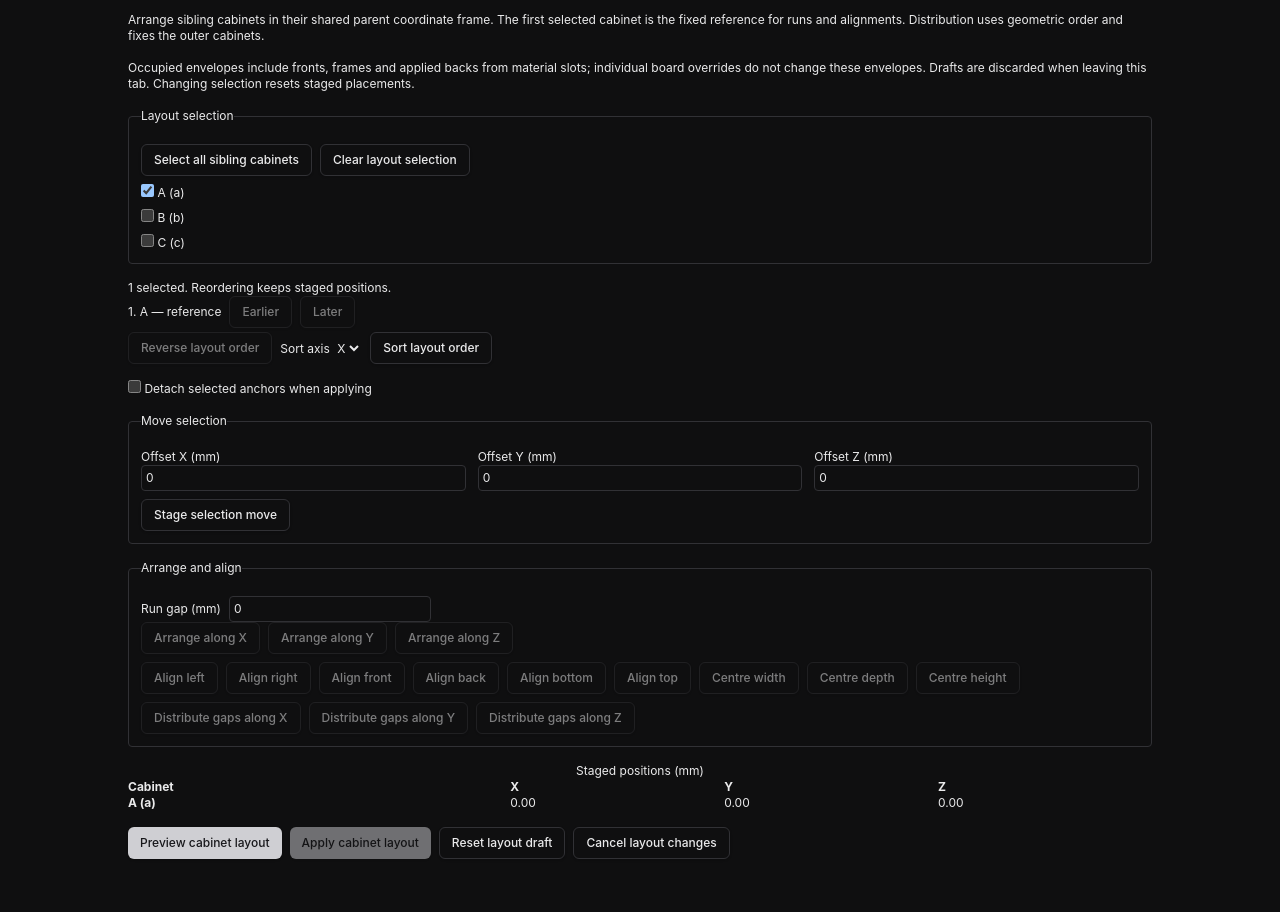
Test case: shows noop and rejected acceptance without claiming success
Click the button "Preview cabinet layout" at {"x": 205, "y": 843}, box [128, 827, 282, 859]
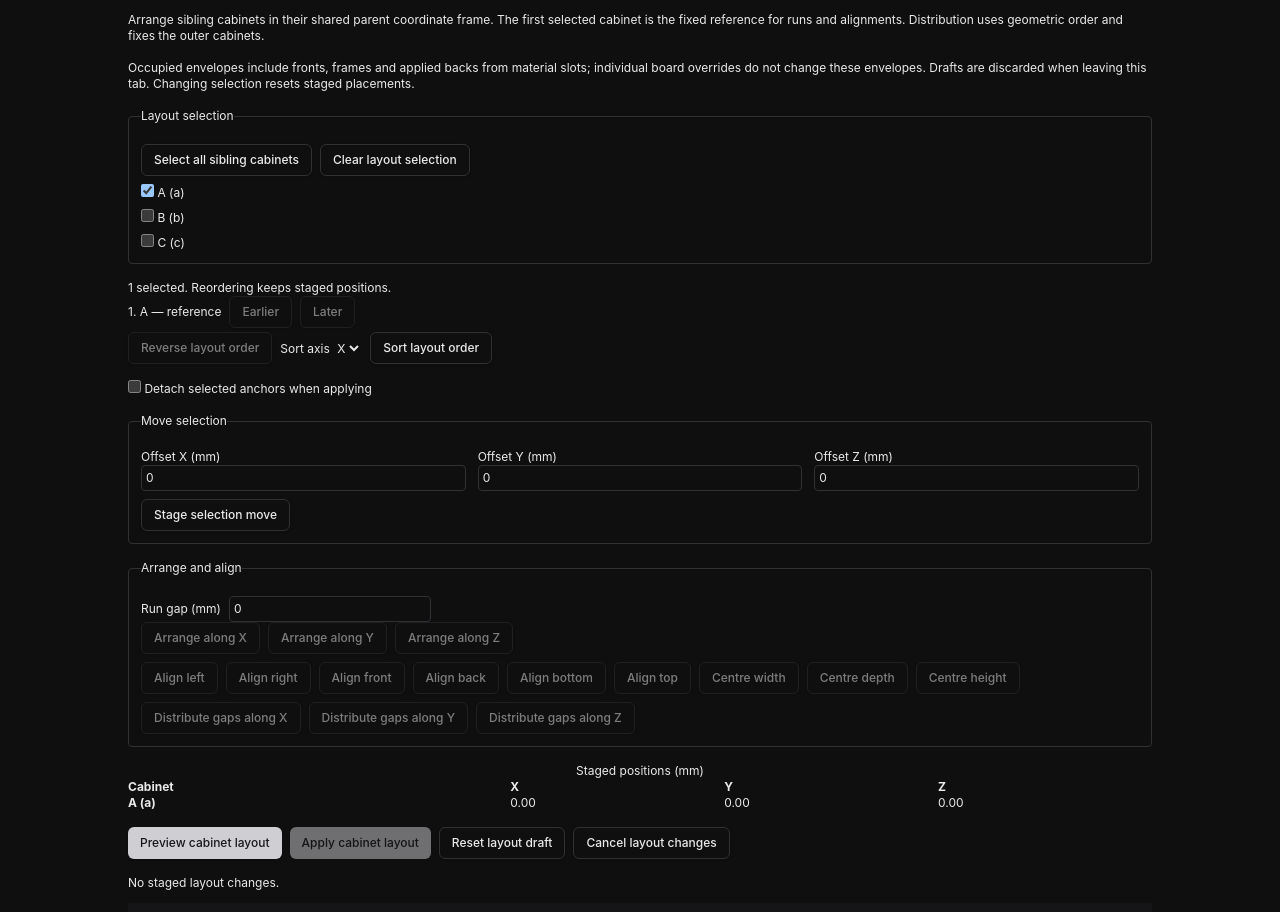
Expected: the button "Apply cabinet layout" is disabled, [290, 827, 431, 859]
Now the text "No staged layout changes." is shown, box [128, 875, 279, 890]
Replace the text in the number field named "Layout offset Z" with "100" at {"x": 977, "y": 478}, box [814, 465, 1139, 491]
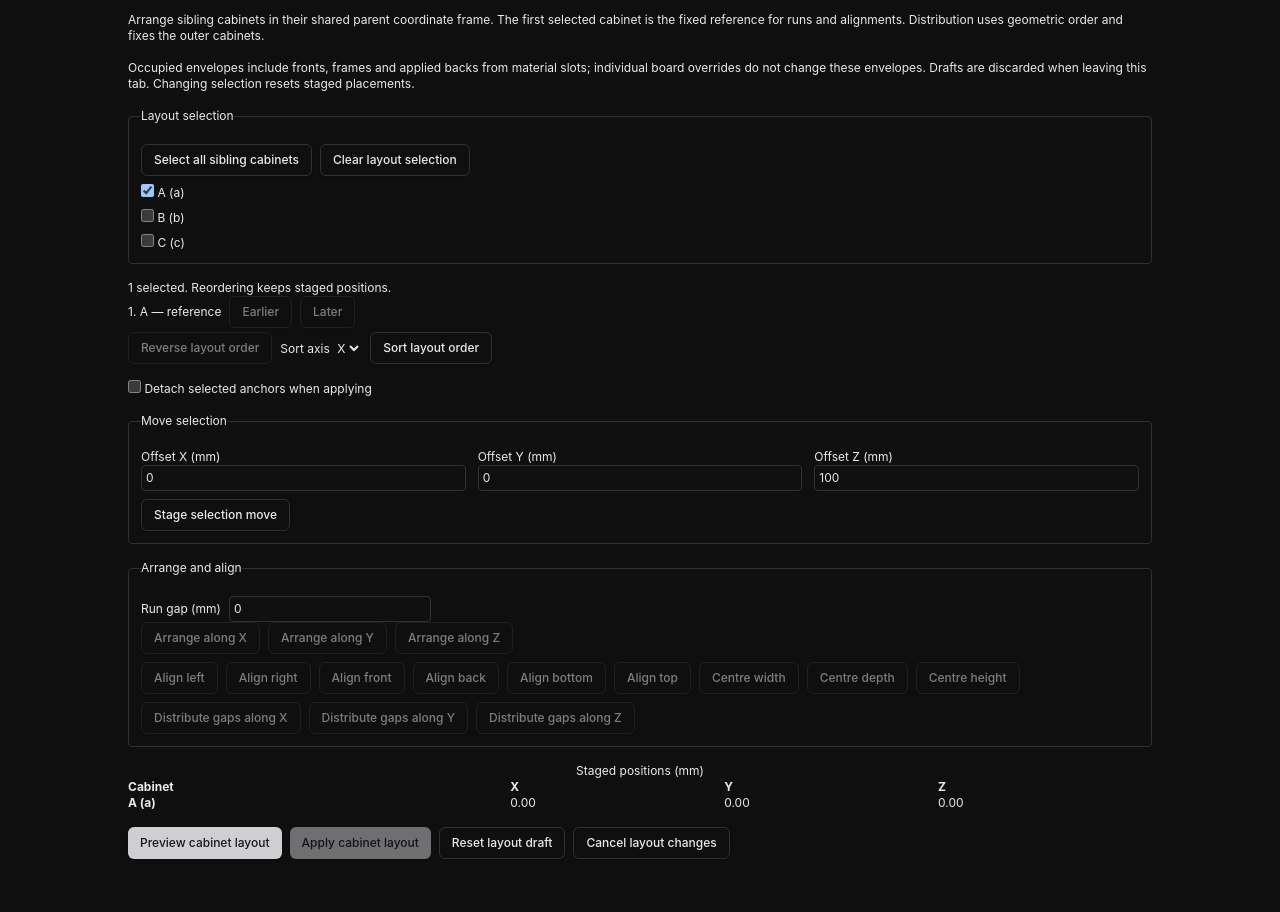
Click the button "Stage selection move" at {"x": 216, "y": 515}, box [141, 499, 290, 531]
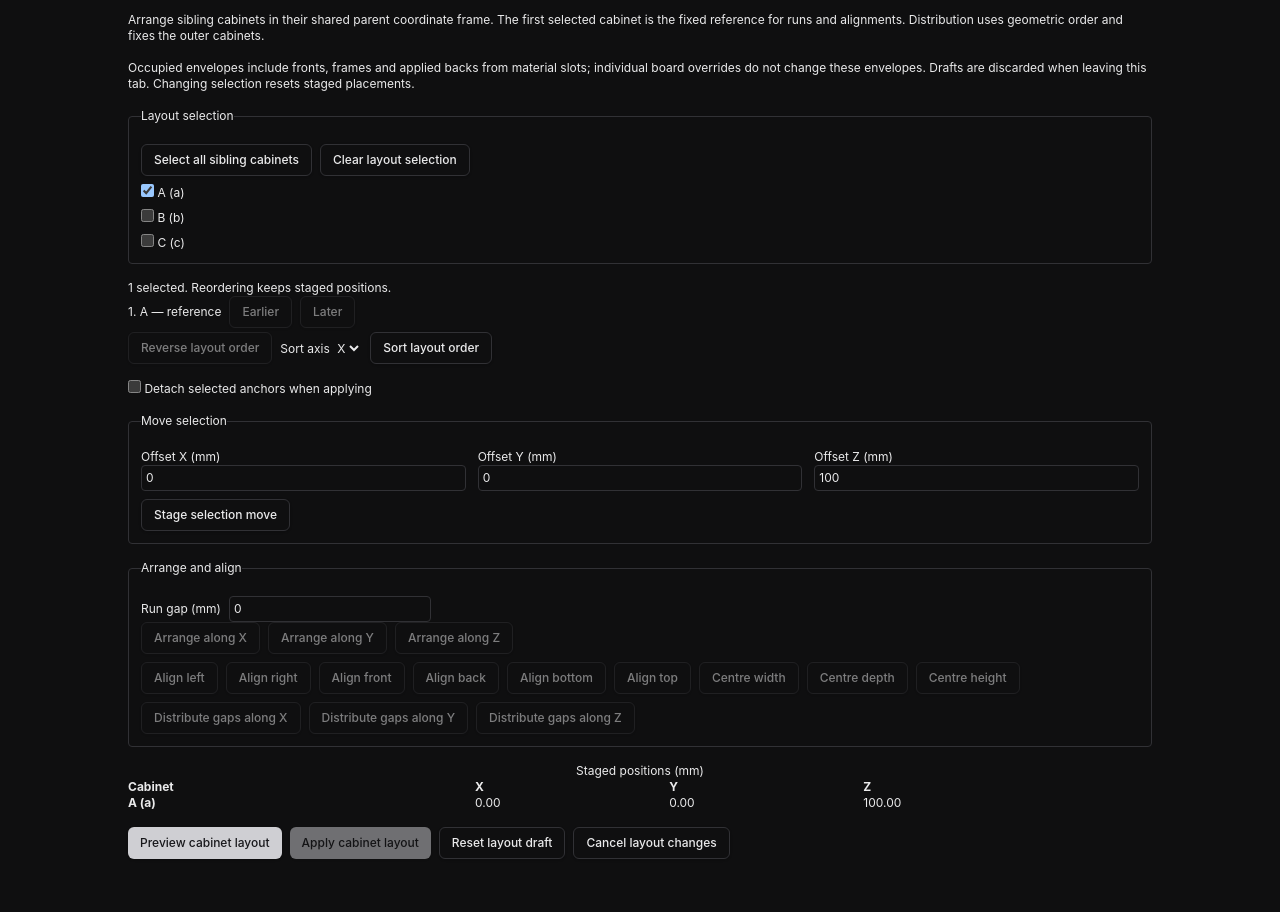
Click the button "Preview cabinet layout" at {"x": 205, "y": 843}, box [128, 827, 282, 859]
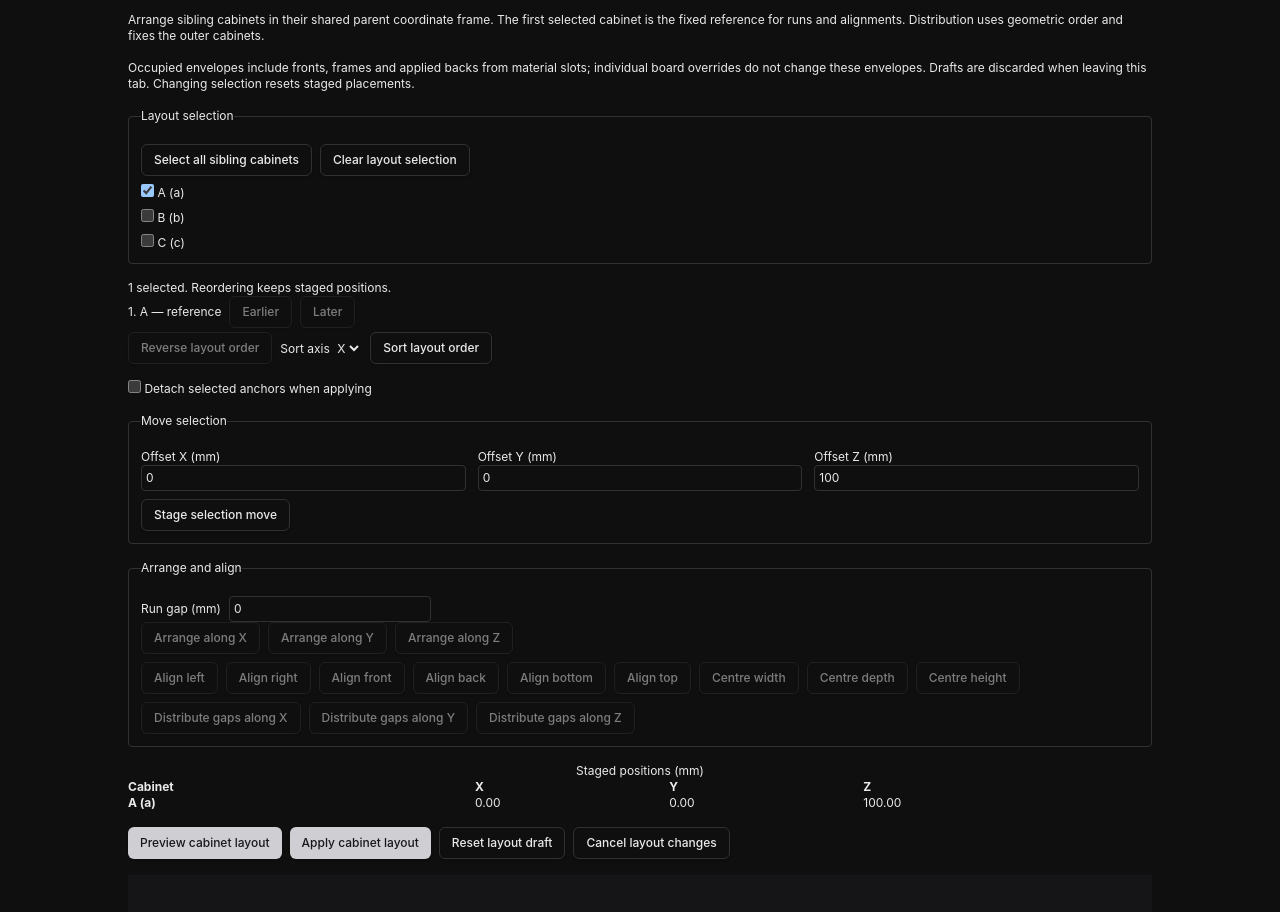
Click the button "Apply cabinet layout" at {"x": 360, "y": 843}, box [290, 827, 431, 859]
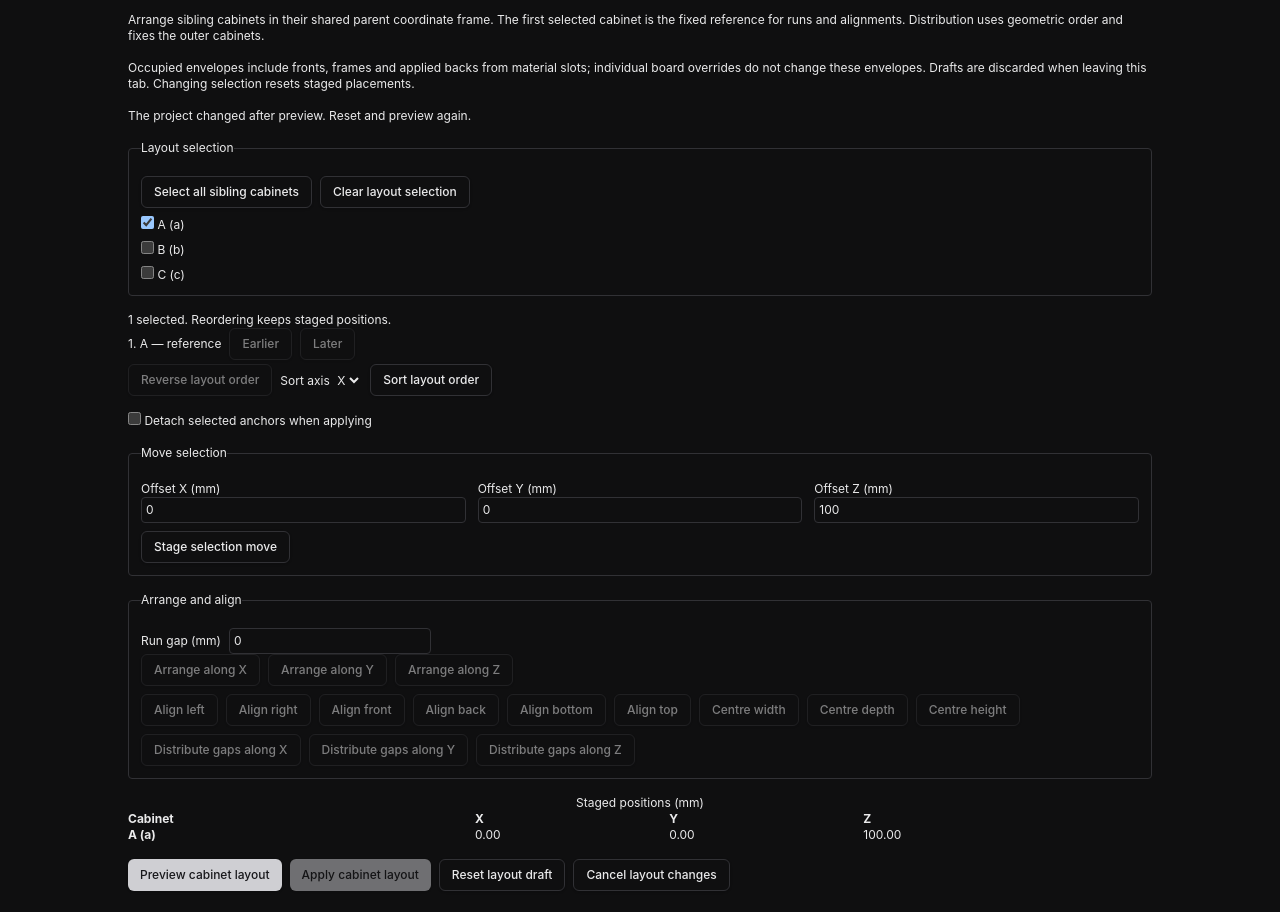
Now the message shows "changed after preview", box [128, 108, 471, 123]
